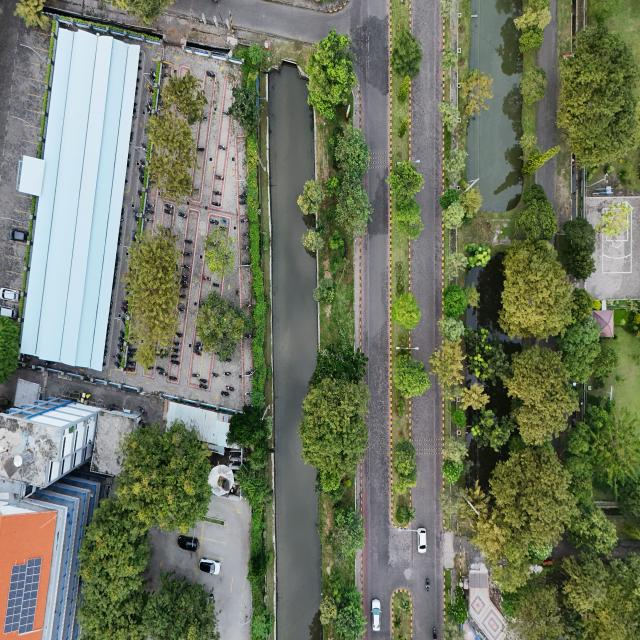Tree: (148, 111, 198, 160), (148, 156, 196, 202), (335, 179, 372, 235), (391, 352, 433, 399), (326, 508, 366, 554), (335, 124, 370, 176), (561, 209, 597, 251), (388, 159, 423, 202), (391, 31, 423, 78), (390, 291, 423, 331), (296, 175, 327, 217), (525, 142, 561, 176), (520, 66, 546, 110), (442, 145, 469, 185), (391, 438, 416, 475), (442, 283, 468, 318), (442, 246, 467, 282), (518, 23, 546, 54), (437, 101, 462, 135), (442, 197, 465, 232), (301, 227, 328, 254), (464, 383, 489, 411), (442, 437, 468, 462), (442, 460, 464, 482), (397, 502, 418, 524), (395, 114, 410, 141), (452, 405, 468, 428), (397, 79, 409, 105), (329, 231, 344, 249), (399, 596, 412, 616)
